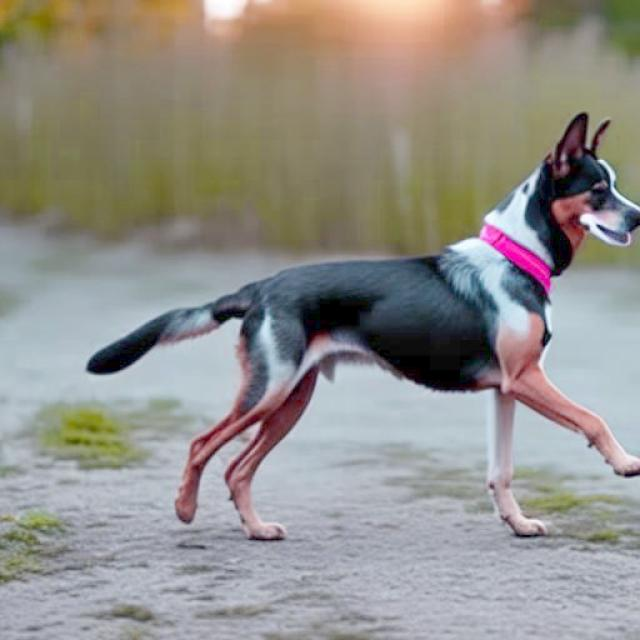Dog: (85, 112, 640, 540)
